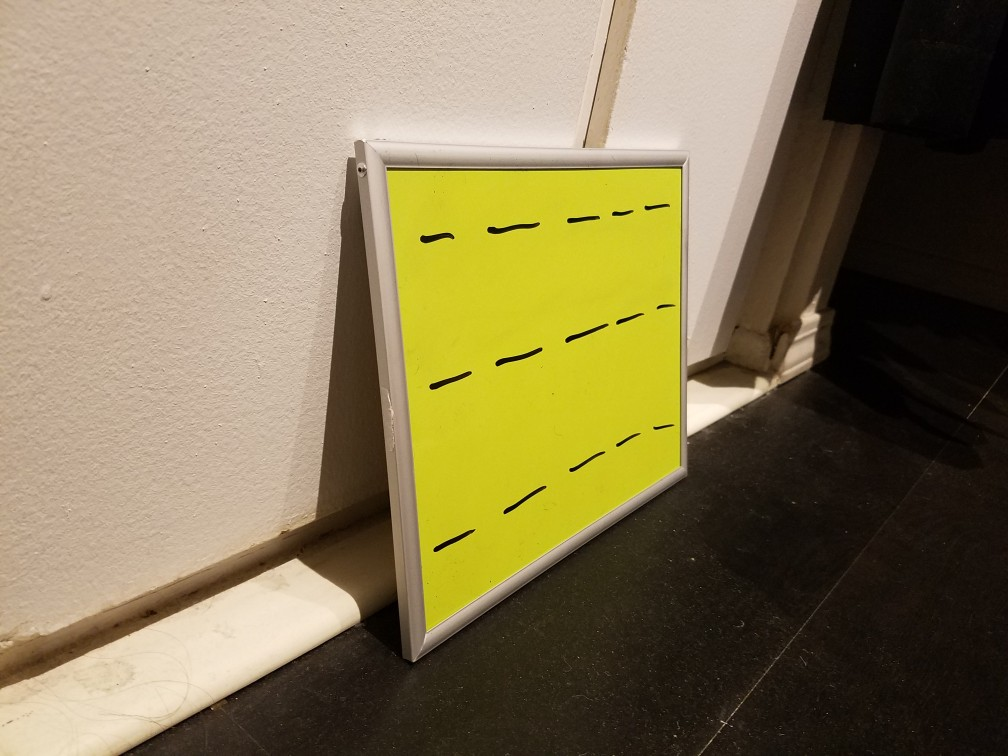-: (418, 356, 480, 405), (488, 475, 552, 520), (486, 341, 557, 377), (560, 306, 613, 352), (428, 521, 475, 559), (606, 292, 651, 330), (404, 221, 456, 250), (482, 217, 542, 240), (611, 416, 646, 453), (559, 204, 604, 232), (570, 445, 606, 477), (650, 283, 679, 322), (648, 409, 677, 438), (640, 198, 675, 220), (611, 201, 636, 224)
